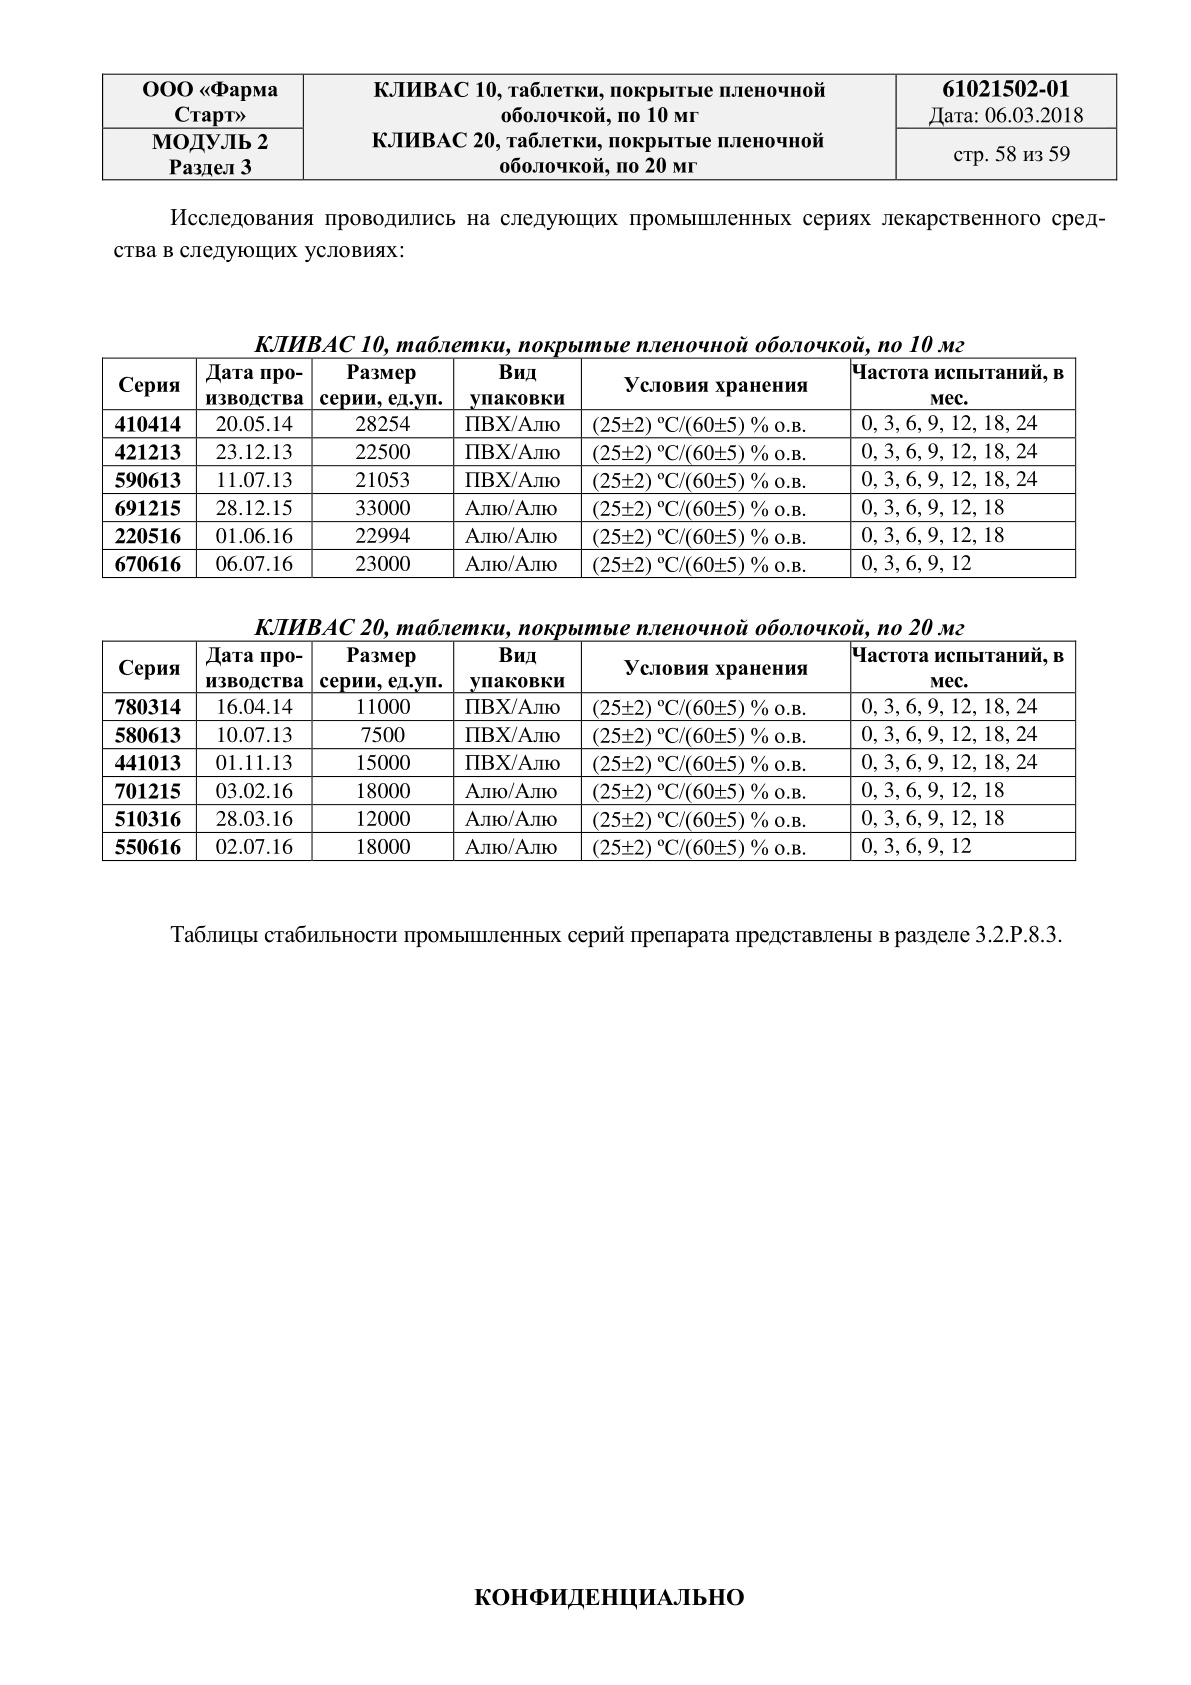full_lined: (101, 356, 1078, 579), (101, 639, 1076, 861)
merged_cells: (101, 72, 1118, 180)
